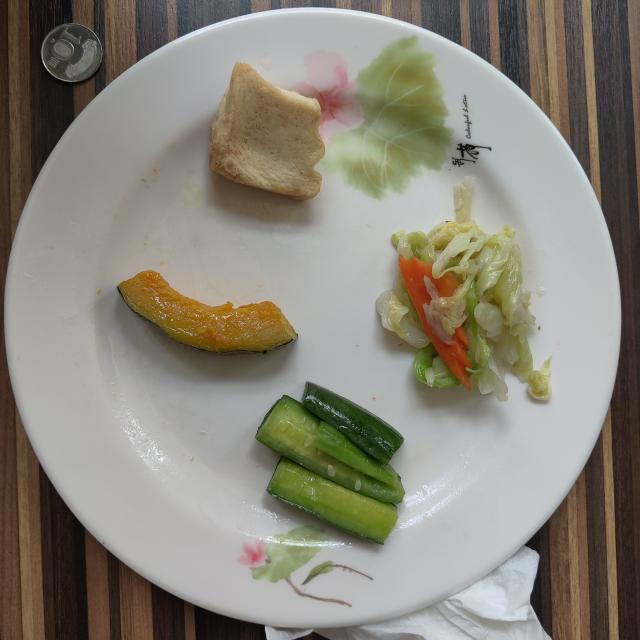cabbage: (376, 178, 551, 401)
coin: (41, 24, 102, 82)
creamy tofu -without sauce-: (209, 62, 325, 200)
cucumber: (256, 382, 405, 544)
pumpkin: (118, 270, 298, 352)
